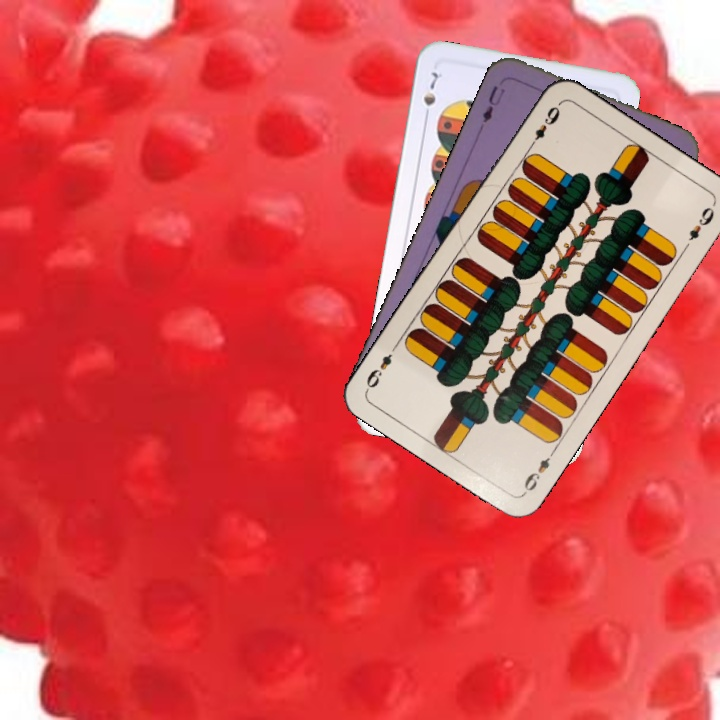E9: (519, 445, 559, 496), (524, 100, 563, 152)
EU: (476, 81, 508, 131)
S7: (419, 67, 441, 123)
